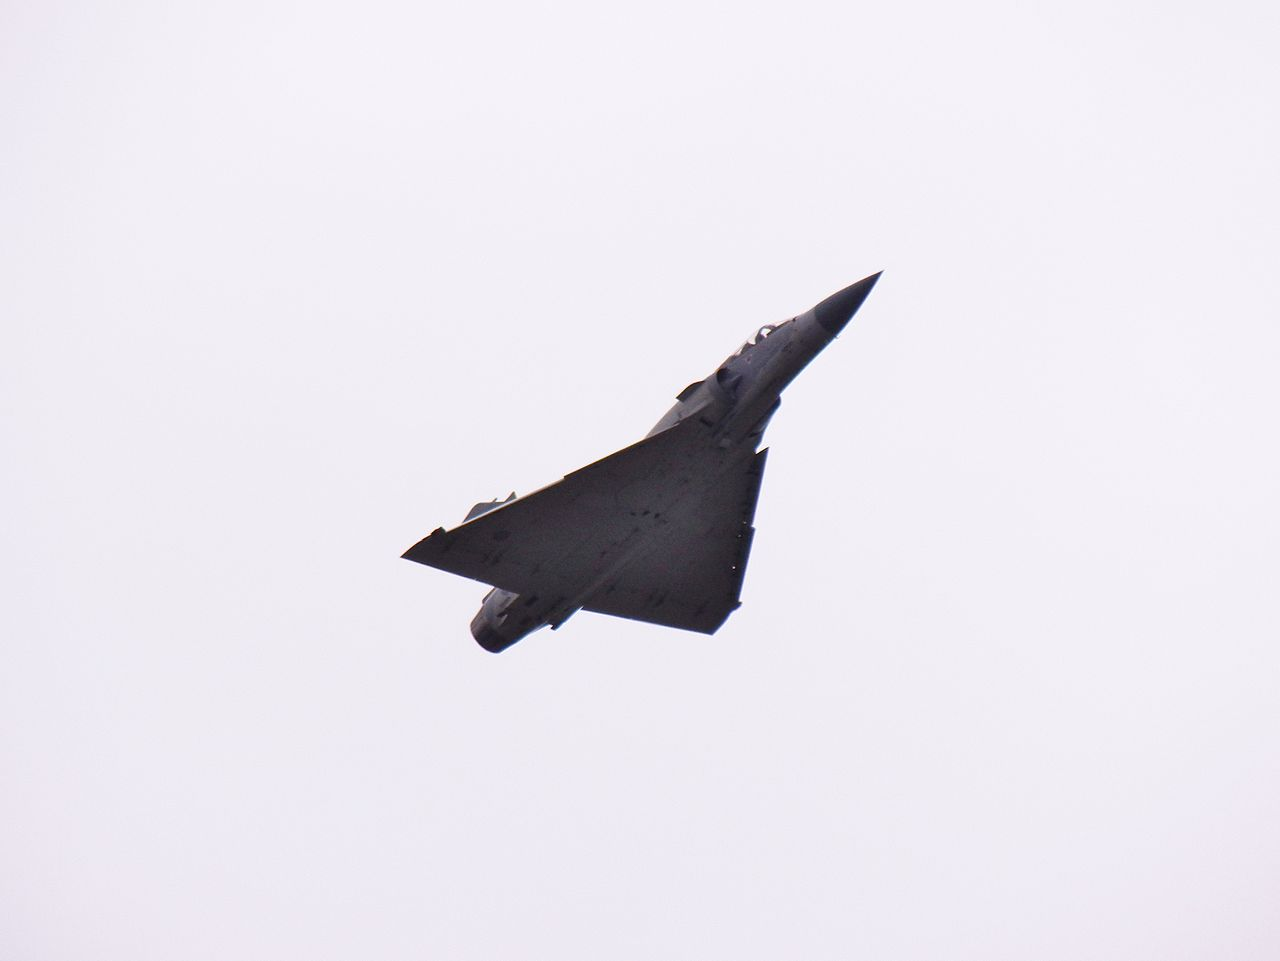Mirage2000: (398, 270, 883, 654)
